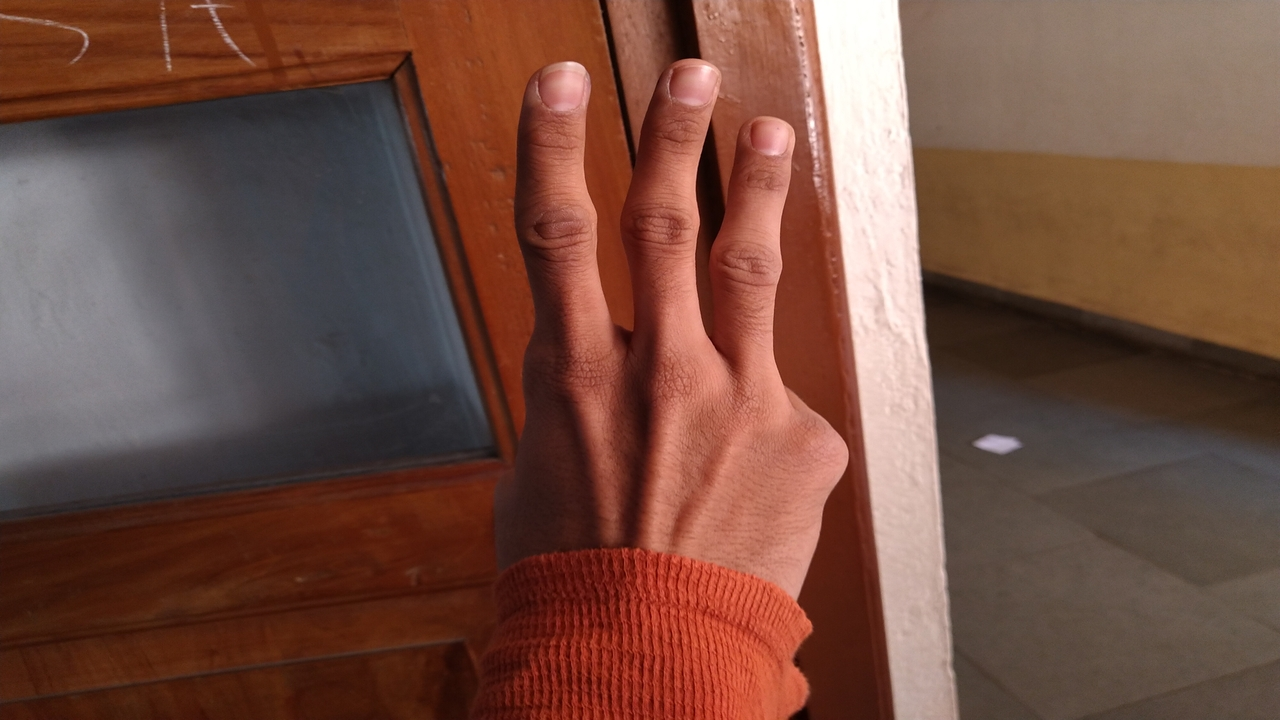fingertip: (518, 56, 594, 122), (660, 52, 726, 112), (734, 110, 800, 170)
